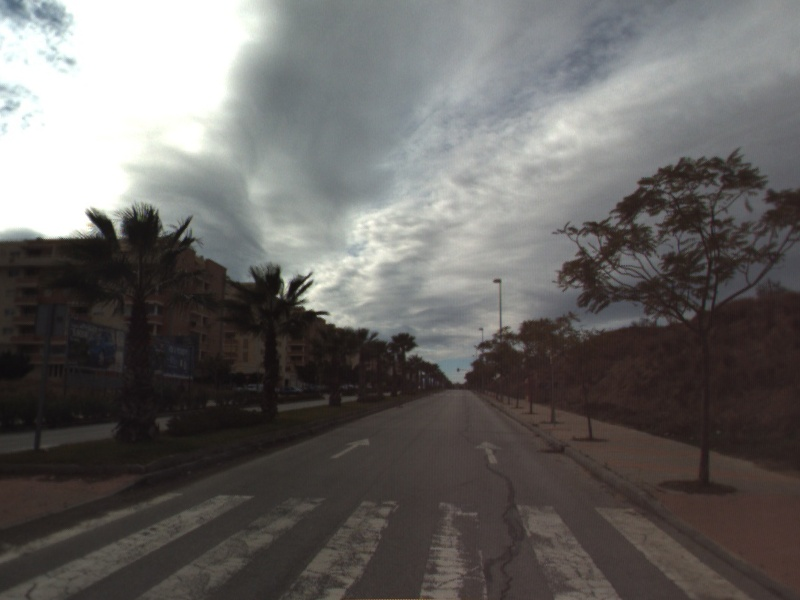STRAIGHT: (328, 436, 371, 460), (473, 438, 504, 465)
